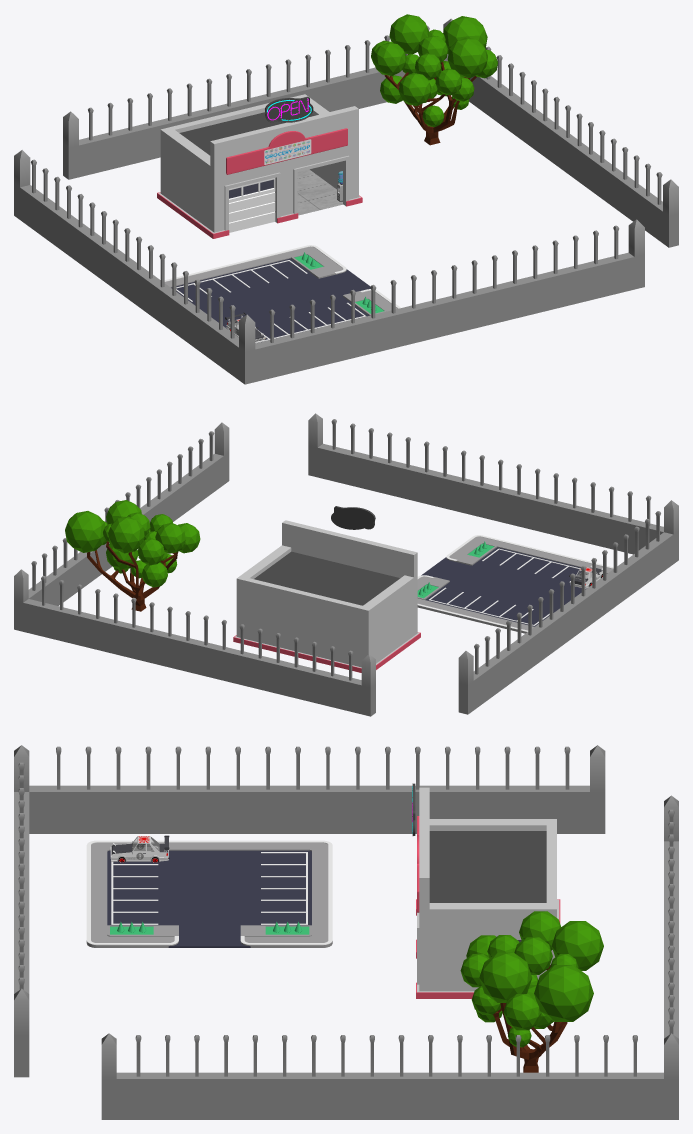
File: shop_old.glb
3 views of the same model, one above another, from view 1: azimuth 30°, elevation 25°; view 2: azimuth 150°, elevation 25°; view 3: azimuth 270°, elevation 25° (orthographic). The views are drawn at different scales.
Parts seen in each view (by area): view 1: Fence (×2), Main building, tree crown, Road, Sign, Garage door, Footpath, Roof, Lines, Plane, trunk and branches, background (+3 smaller); view 2: Fence (×2), Main building, Road, tree crown, Roof, Footpath, Lines, trunk and branches, background, Bottom section, Concretes; view 3: Fence (×2), Road, tree crown, Main building, Roof, Footpath, Lines, trunk and branches, Concretes, Car frame, Grass.
Part boxes in pixels (x1=…): Fence (×2): x1=14, y1=18, x2=678, y2=384; Main building: x1=158, y1=94, x2=360, y2=233; tree crown: x1=371, y1=14, x2=497, y2=127; Road: x1=171, y1=258, x2=370, y2=342; Sign: x1=226, y1=128, x2=347, y2=174; Garage door: x1=229, y1=178, x2=275, y2=232; Footpath: x1=164, y1=247, x2=397, y2=311; Roof: x1=179, y1=112, x2=314, y2=155; Lines: x1=164, y1=245, x2=400, y2=343; Plane: x1=297, y1=169, x2=343, y2=215; trunk and branches: x1=384, y1=54, x2=476, y2=145; background: x1=265, y1=96, x2=313, y2=122; Fence (×2): x1=14, y1=413, x2=678, y2=716; Main building: x1=234, y1=520, x2=419, y2=667; Road: x1=421, y1=547, x2=586, y2=626; tree crown: x1=65, y1=500, x2=200, y2=587; Roof: x1=254, y1=551, x2=400, y2=605; Footpath: x1=417, y1=536, x2=613, y2=633; Lines: x1=417, y1=535, x2=613, y2=632; trunk and branches: x1=87, y1=541, x2=178, y2=611; background: x1=331, y1=506, x2=375, y2=529; Bottom section: x1=233, y1=632, x2=420, y2=672; Concretes: x1=417, y1=542, x2=497, y2=599; Fence (×2): x1=14, y1=745, x2=678, y2=1119; Road: x1=107, y1=850, x2=311, y2=947; tree crown: x1=460, y1=911, x2=603, y2=1047; Main building: x1=417, y1=787, x2=559, y2=992; Roof: x1=429, y1=831, x2=546, y2=902; Footpath: x1=86, y1=842, x2=332, y2=947; Lines: x1=86, y1=840, x2=332, y2=945; trunk and branches: x1=493, y1=965, x2=567, y2=1072; Concretes: x1=107, y1=925, x2=311, y2=936; Car frame: x1=111, y1=836, x2=168, y2=861; Grass: x1=110, y1=926, x2=309, y2=934.
Size of the model in its own units: 5.98 by 1.52 by 5.75.
51 materials, 3 textured.
